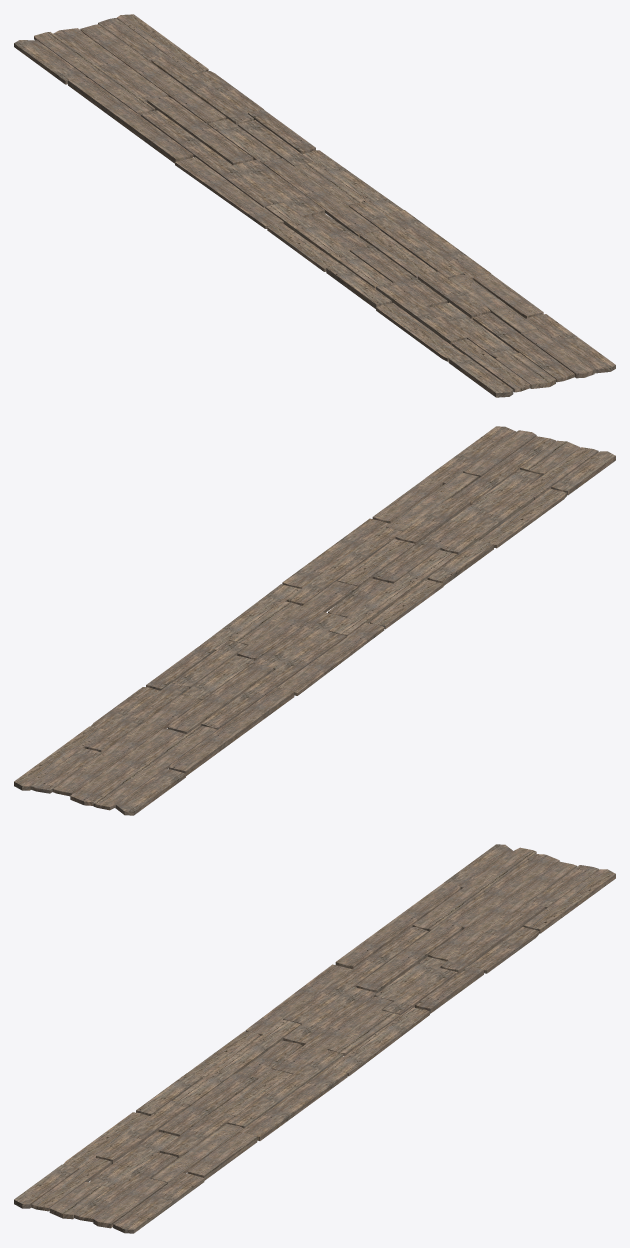
The model's file is Prop_Mq02.glb.
3 renders of one model, top to bottom at view 1: azimuth 30°, elevation 25°; view 2: azimuth 150°, elevation 25°; view 3: azimuth 330°, elevation 25°, orthographic.
Visible parts, largest first — view 1: xiutz_mq_02; view 2: xiutz_mq_02; view 3: xiutz_mq_02.
Part boxes in pixels (left/top/right/bottom): xiutz_mq_02: left=14, top=14, right=615, bottom=397; xiutz_mq_02: left=14, top=426, right=615, bottom=815; xiutz_mq_02: left=14, top=844, right=615, bottom=1233.
Size of the model in its own units: 3.96 by 0.2048 by 27.1.
Materials: 1 (1 with a texture image).
